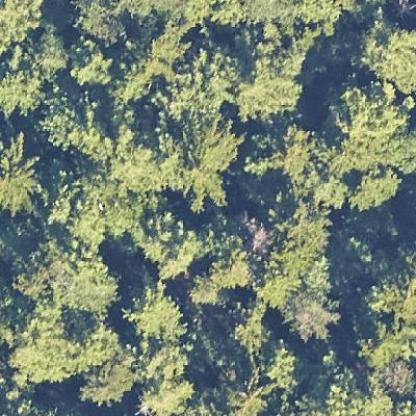tree-top: (325, 77, 413, 176), (13, 236, 118, 308), (162, 112, 244, 204), (231, 42, 304, 121), (136, 210, 203, 282), (351, 16, 415, 88), (125, 278, 194, 344), (121, 23, 192, 80), (0, 140, 43, 216), (0, 61, 49, 113), (136, 375, 199, 415), (285, 291, 335, 337), (134, 341, 194, 379), (207, 239, 251, 290), (65, 38, 107, 89), (216, 377, 272, 415), (350, 166, 400, 208), (382, 354, 413, 396)
